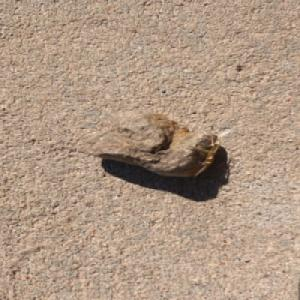Rock: (75, 109, 221, 179)
